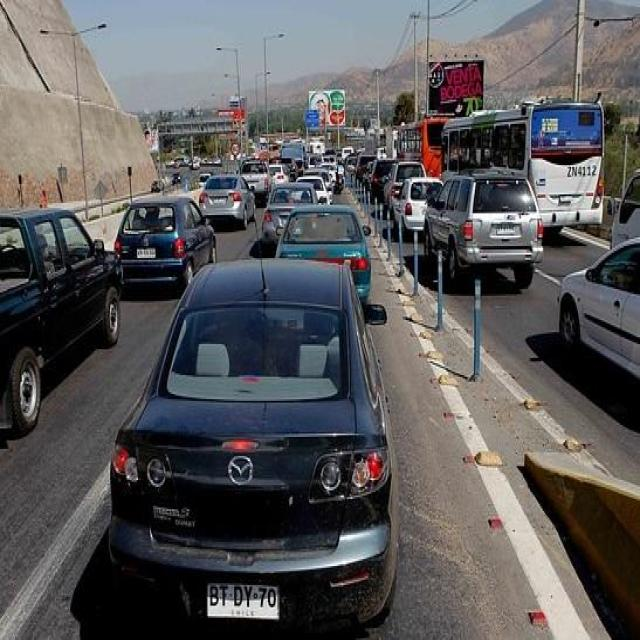patente: (205, 580, 281, 619)
